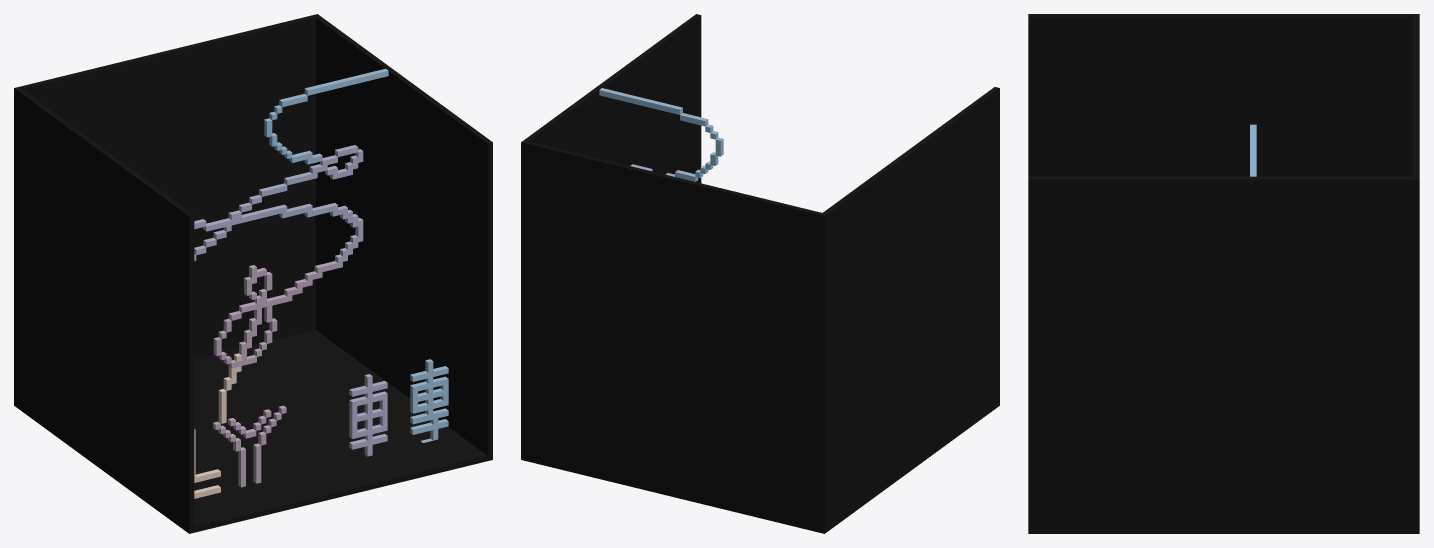
The model's file is Love yourself tear.obj.
3 views of the same model, side by side, from view 1: azimuth 30°, elevation 25°; view 2: azimuth 150°, elevation 25°; view 3: azimuth 270°, elevation 25° (orthographic). The views are drawn at different scales.
Bounding box in the file's own units: 6 × 6 × 6.
1 material, 1 textured.
